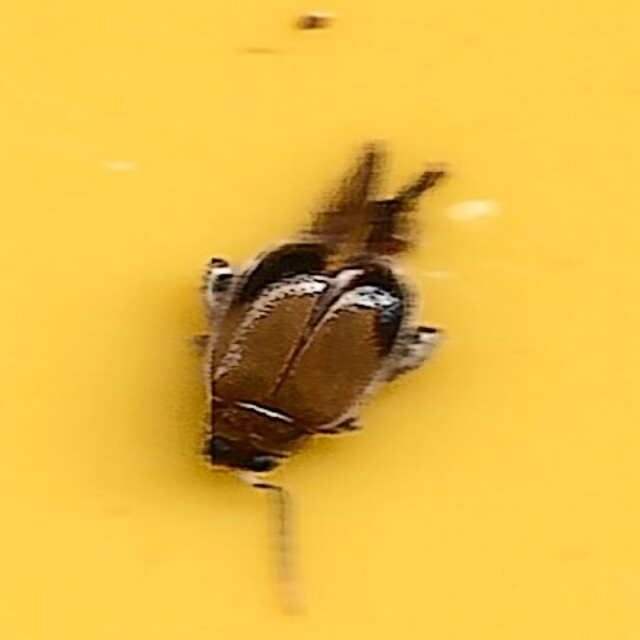Coleoptera: (191, 146, 449, 494)
